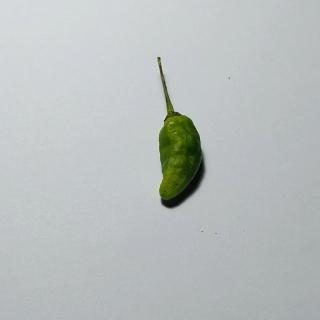Cabai Hijau: (143, 49, 209, 213)
